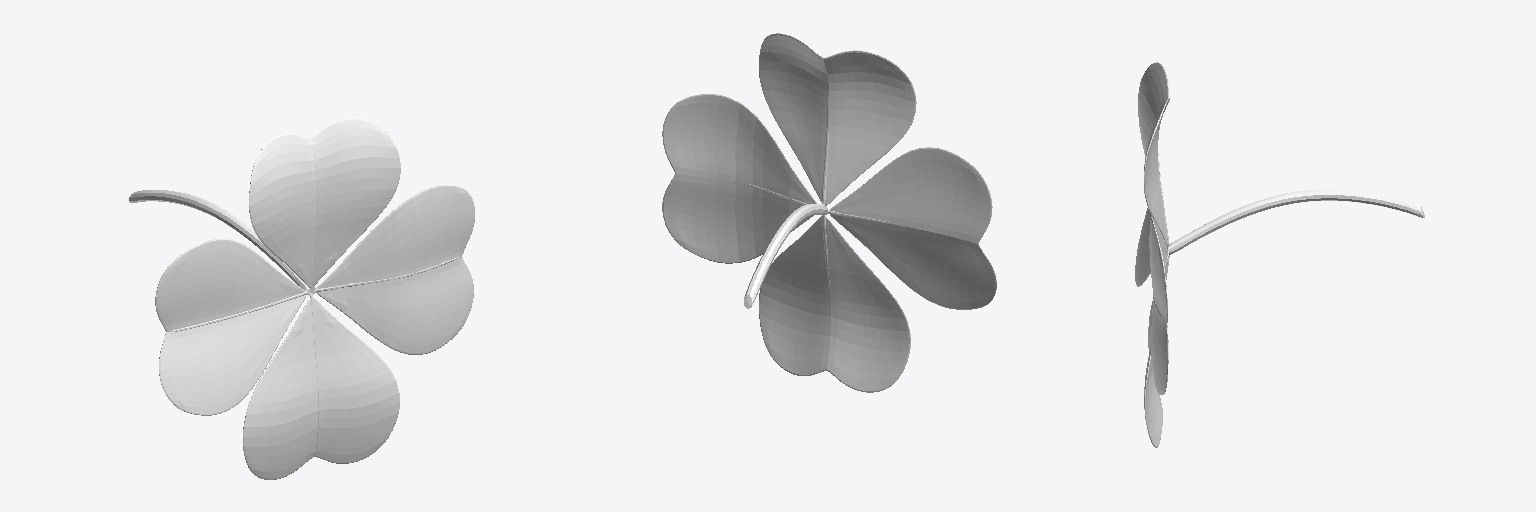
Rendered from leaf_2_align.obj.
The picture shows the model from 3 angles: view 1: azimuth 30°, elevation 25°; view 2: azimuth 150°, elevation 25°; view 3: azimuth 270°, elevation 25°; orthographic projection.
Bounding box in the file's own units: 0.1056 × 0.1065 × 0.0817.